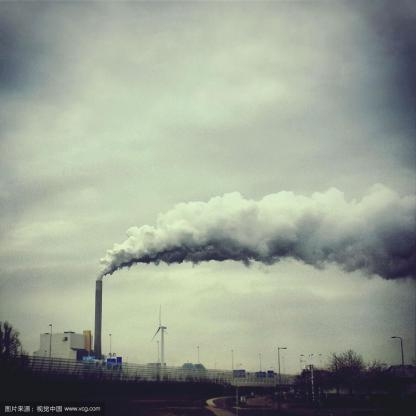smoke: (328, 184, 412, 290), (250, 192, 327, 284), (186, 195, 248, 274), (140, 202, 184, 271), (98, 228, 140, 278)
